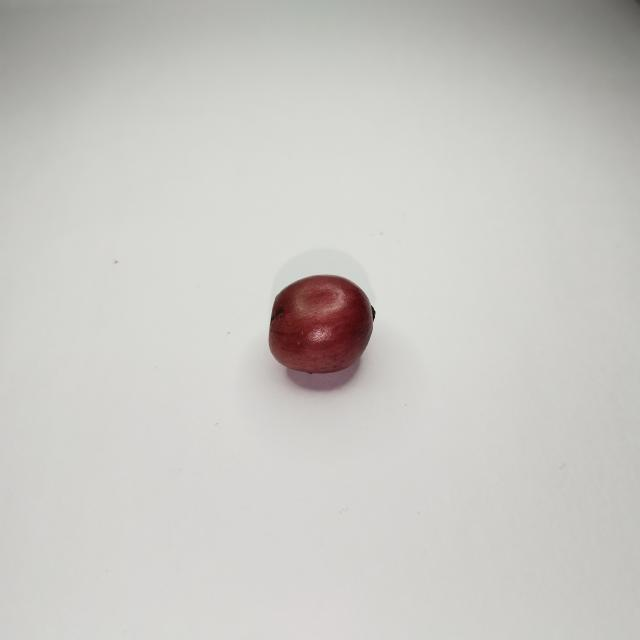Sano: (269, 276, 371, 373)
